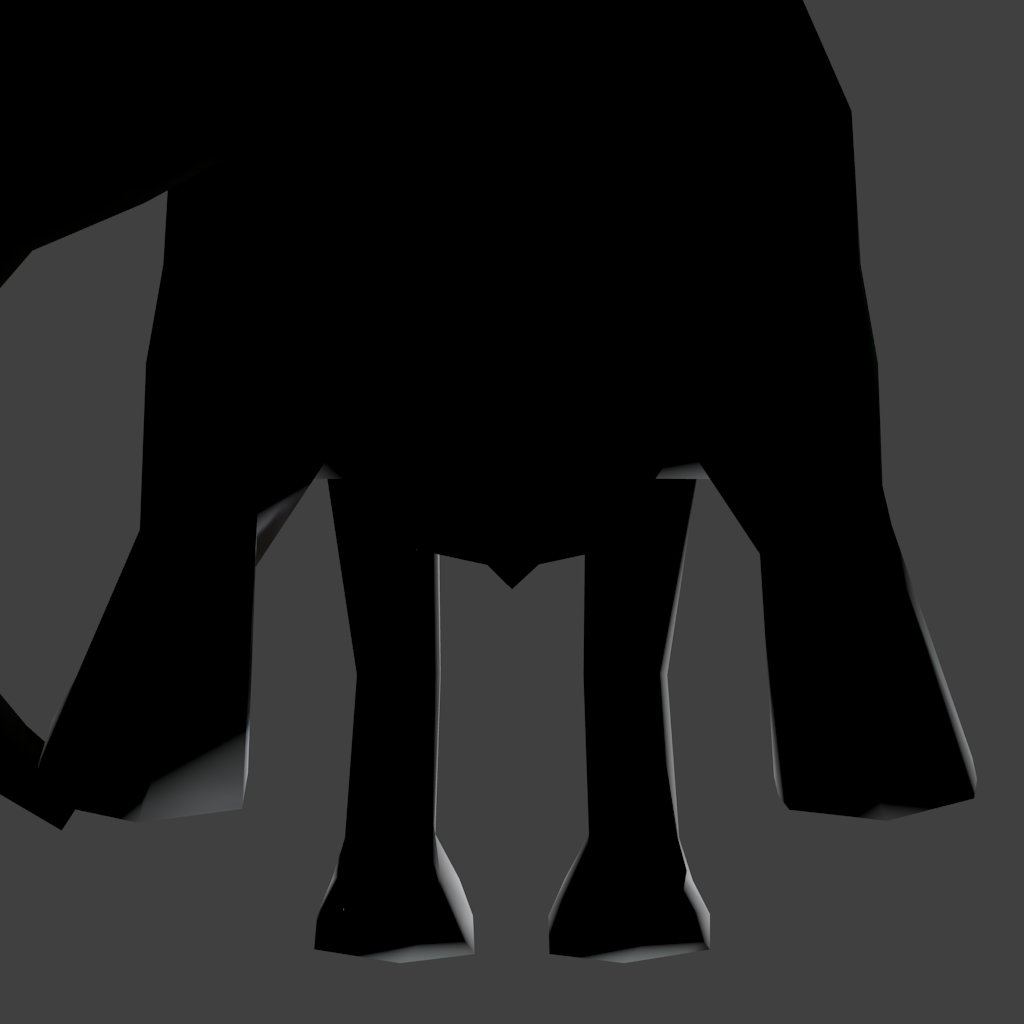Cat: (0, 0, 977, 963)
